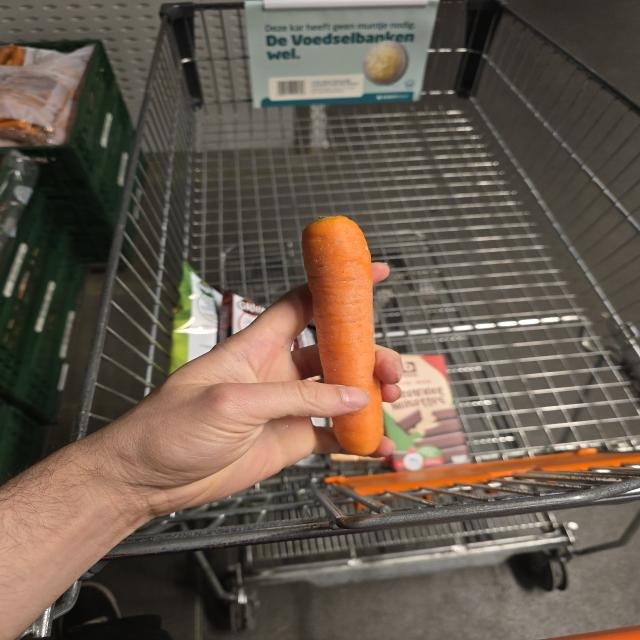Carrot: (302, 216, 383, 455)
